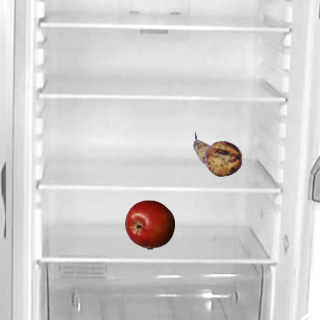Apple Braeburn: (124, 199, 174, 249)
Pear Abate: (192, 129, 242, 179)
